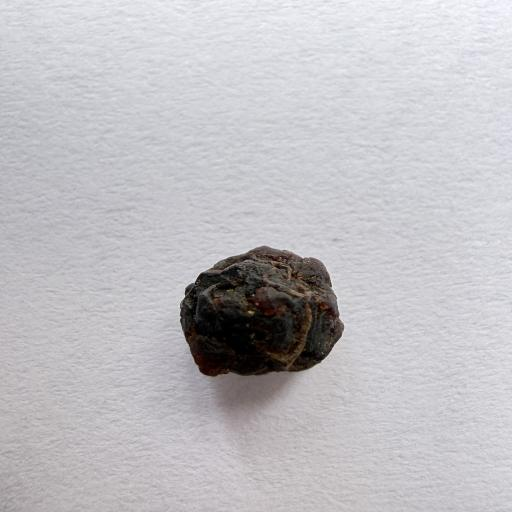Black_pepper: (146, 210, 387, 394)
